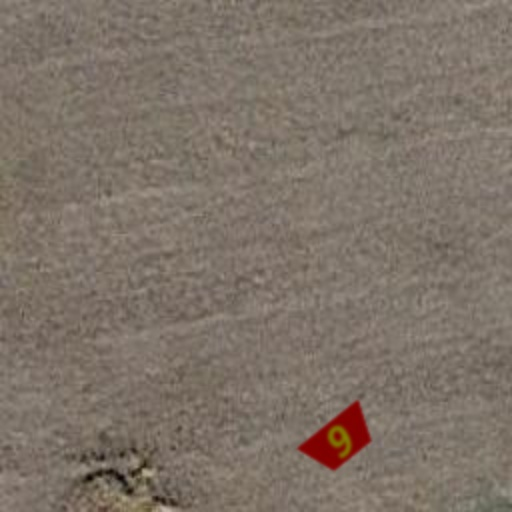trapezoid: (282, 382, 398, 498)
